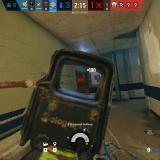Character: (78, 78, 85, 82)
